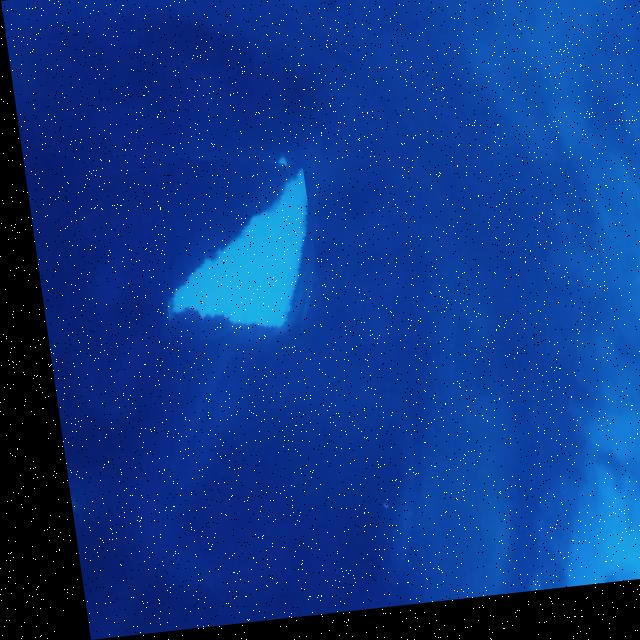litter: (139, 156, 316, 365)
